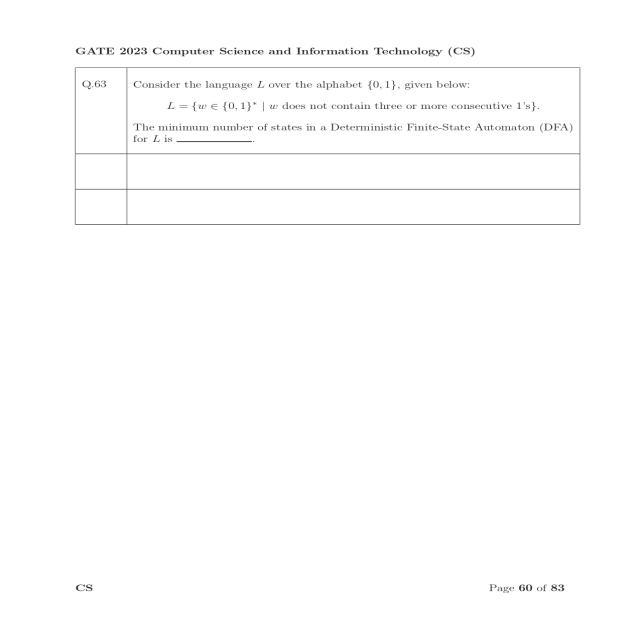Question_Answer_Block: (72, 68, 584, 154)
Question_Block: (69, 68, 580, 154)
Question_Paper_Area: (72, 41, 584, 225)
